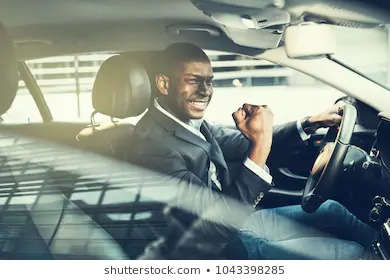F_M_suit jacket: (124, 97, 313, 257)
